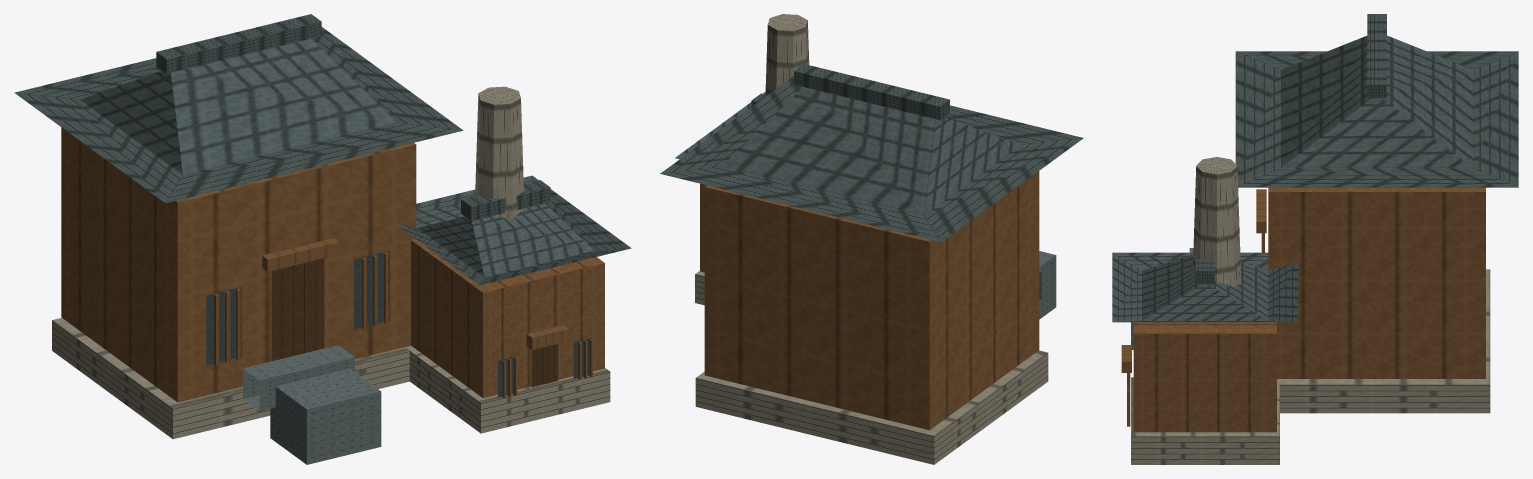
The model's file is domestic-SMITH-2-lod1.glb.
The picture shows the model from 3 angles, left to right: view 1: azimuth 30°, elevation 25°; view 2: azimuth 150°, elevation 25°; view 3: azimuth 270°, elevation 25°; orthographic projection. The views are drawn at different scales.
Size of the model in its own units: 0.755 by 0.6 by 0.7095.
Materials: 1 (1 with a texture image).
